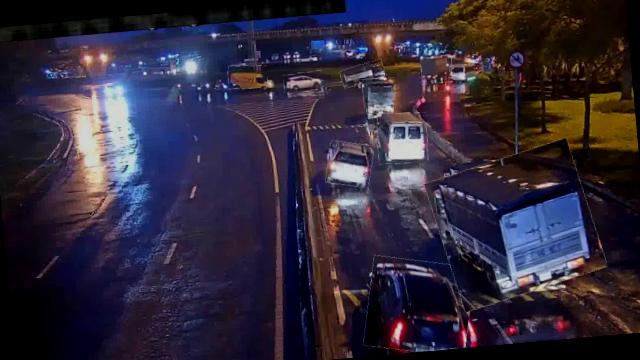Bus: (376, 111, 430, 166), (362, 78, 398, 115)
Car: (360, 252, 478, 356), (324, 139, 375, 190), (340, 61, 386, 87), (283, 71, 324, 93)
Truck: (428, 143, 602, 307), (226, 64, 268, 90), (420, 54, 454, 85)
